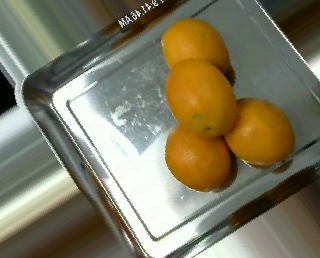Orange: (164, 57, 237, 138), (227, 97, 294, 167), (165, 123, 232, 192), (160, 16, 230, 80)
